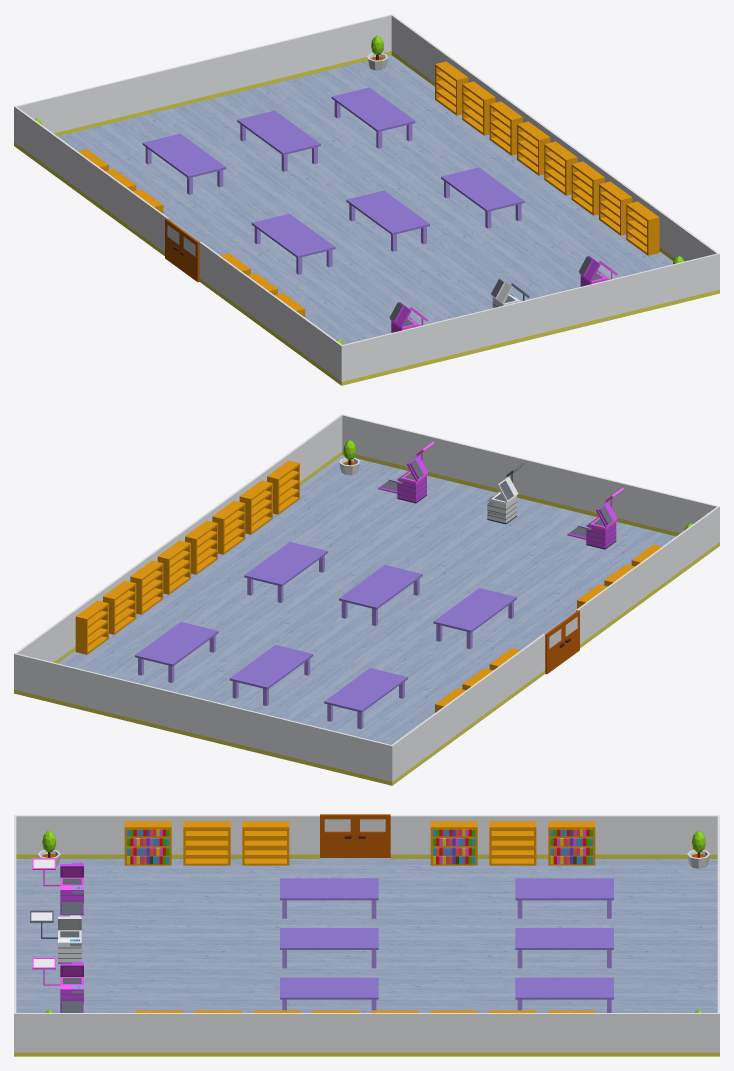
The model's file is 2_Library.fbx.
3 views of the same model, one above another, from view 1: azimuth 30°, elevation 25°; view 2: azimuth 150°, elevation 25°; view 3: azimuth 270°, elevation 25° (orthographic). The views are drawn at different scales.
Visible parts, largest first — view 1: 0_InnerGround.004, 1_Fotocopy, 0_Chair&Table.045, 0_Chair&Table.050, 0_Chair&Table.048, 0_Chair&Table.047, 0_Chair&Table.049, 0_Chair&Table.046, 0_Shelf.029, 0_Shelf.022, 0_Shelf.023, 0_Shelf.025 (+9 smaller); view 2: 0_InnerGround.004, 1_Fotocopy, 0_Chair&Table.047, 0_Chair&Table.049, 0_Chair&Table.050, 0_Chair&Table.045, 0_Chair&Table.046, 0_Chair&Table.048, 0_Shelf.024, 0_PhotocopyMachine.009, 0_PhotocopyMachine.020, 0_Shelf.023 (+9 smaller); view 3: 0_InnerGround.004, 1_Fotocopy, 0_Chair&Table.045, 0_Chair&Table.048, 0_Chair&Table.050, 0_Chair&Table.047, 0_Chair&Table.046, 0_Chair&Table.049, 0_Shelf.016, 0_Shelf.017, 0_Shelf.018, 0_Shelf.019 (+9 smaller).
Boxes of the visible parts, x1,y1,x2,y2 form: 0_InnerGround.004: (58,55,673,344); 1_Fotocopy: (14,14,719,385); 0_Chair&Table.045: (251,213,335,274); 0_Chair&Table.050: (331,87,415,148); 0_Chair&Table.048: (142,133,226,194); 0_Chair&Table.047: (441,167,524,228); 0_Chair&Table.049: (237,110,320,171); 0_Chair&Table.046: (346,190,429,251); 0_Shelf.029: (626,201,659,255); 0_Shelf.022: (489,101,522,155); 0_Shelf.023: (462,81,495,135); 0_Shelf.025: (571,161,604,215); 0_InnerGround.004: (58,455,675,744); 1_Fotocopy: (14,414,719,785); 0_Chair&Table.047: (244,542,327,602); 0_Chair&Table.049: (229,645,313,705); 0_Chair&Table.050: (135,622,218,682); 0_Chair&Table.045: (433,588,516,649); 0_Chair&Table.046: (339,565,422,625); 0_Chair&Table.048: (324,668,407,728); 0_Shelf.024: (75,600,108,654); 0_PhotocopyMachine.009: (567,487,623,549); 0_PhotocopyMachine.020: (378,441,434,503); 0_Shelf.023: (103,580,136,634); 0_InnerGround.004: (16,858,717,1012); 1_Fotocopy: (14,815,719,1056); 0_Chair&Table.045: (280,878,378,918); 0_Chair&Table.048: (515,878,613,918); 0_Chair&Table.050: (515,977,613,1012); 0_Chair&Table.047: (280,977,378,1010); 0_Chair&Table.046: (280,928,378,968); 0_Chair&Table.049: (515,928,613,968); 0_Shelf.016: (124,821,171,865); 0_Shelf.017: (183,821,230,865); 0_Shelf.018: (242,821,289,865); 0_Shelf.019: (430,821,477,865).
Size of the model in its own units: 3000 by 2025 by 218.
